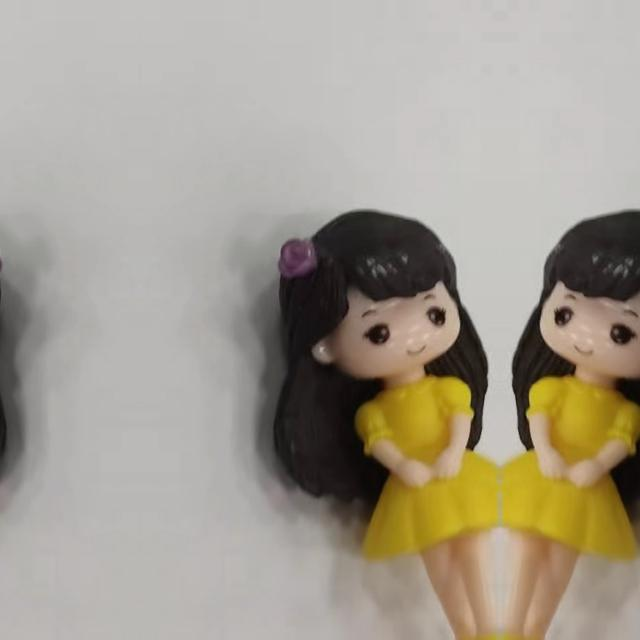woman dress: (362, 380, 500, 640), (500, 380, 638, 640)
woman head: (264, 206, 486, 374), (514, 205, 640, 374), (0, 205, 15, 374)
